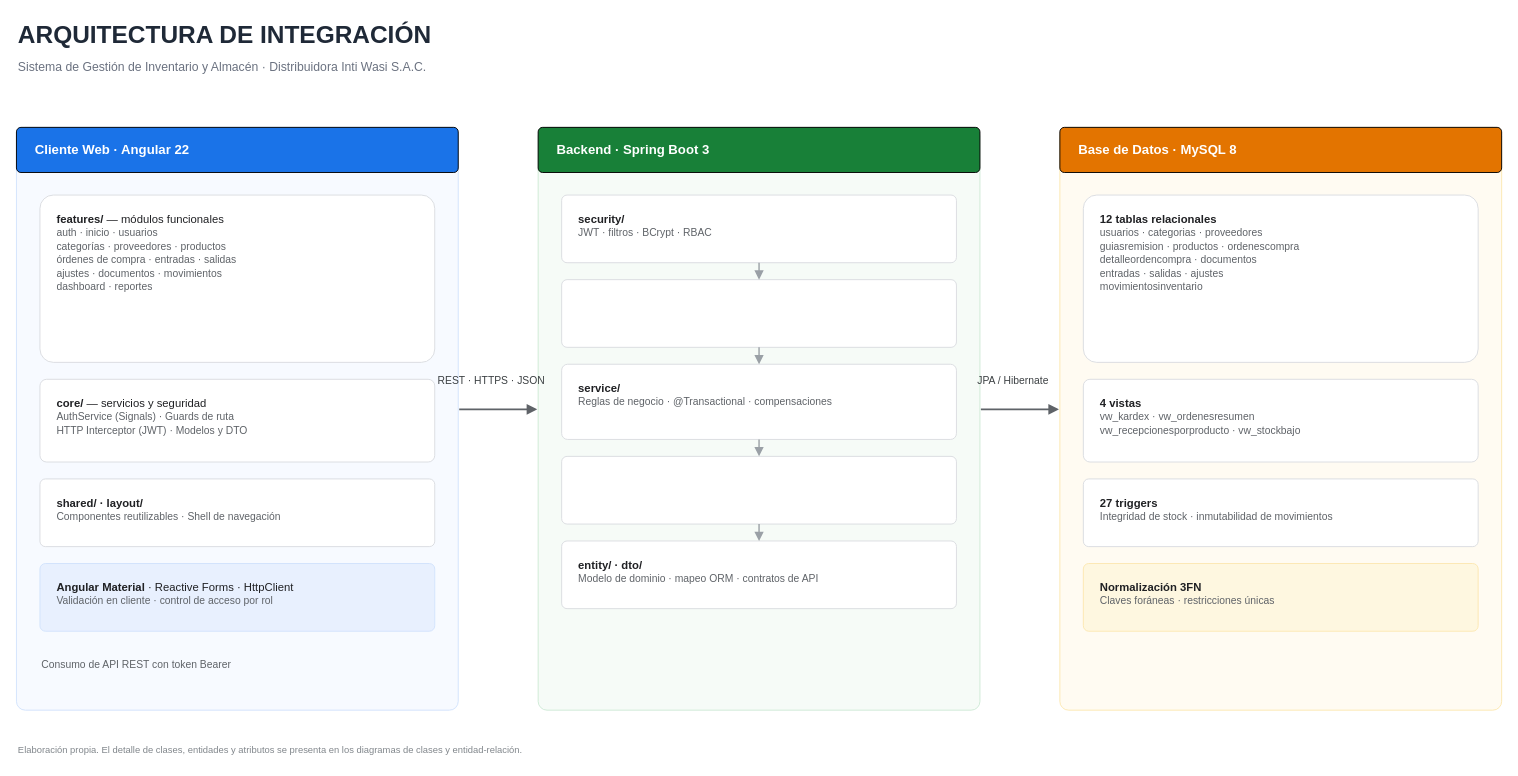
Image size: 1518x776. Some labels were removed from this diagram. The centre of each missing label's shape, as x and y in pixels:
controller/ 13 controladores REST · validación de entrada: the point at 758,313
repository/ Spring Data JPA · consultas derivadas: the point at 758,489
